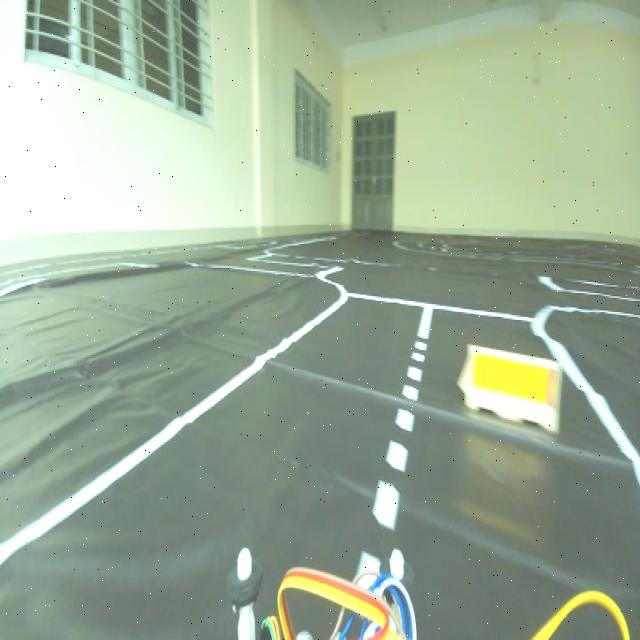roadblock: (454, 328, 576, 448)
